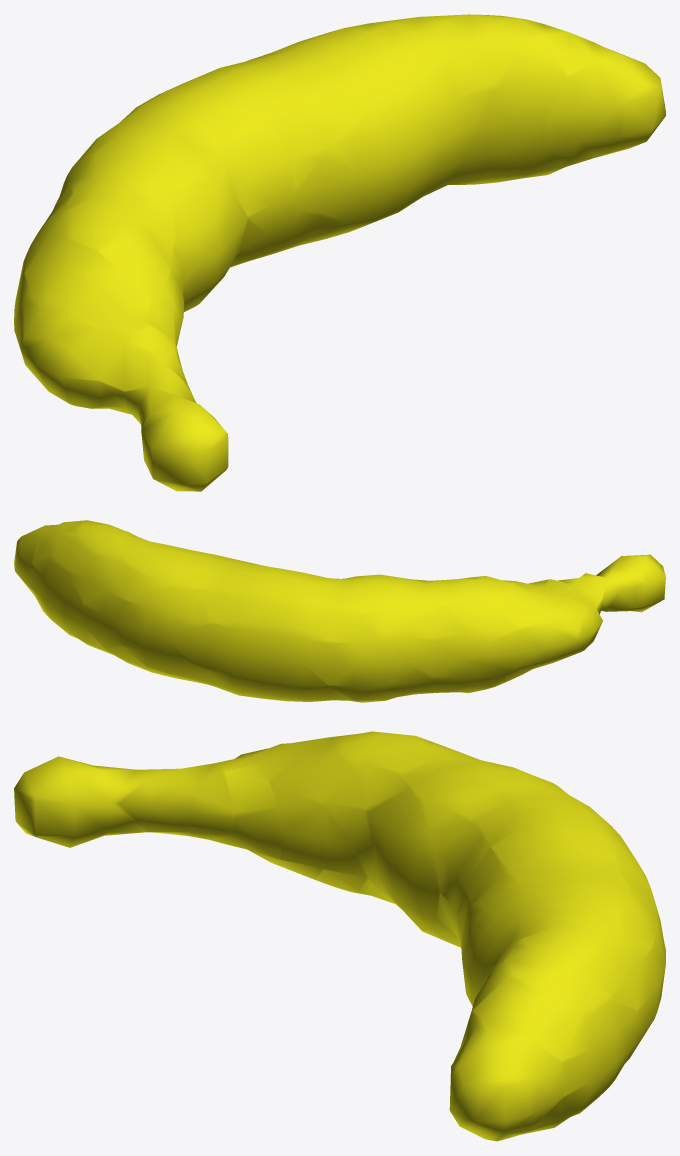
Rendered from banana_upright2.glb.
3 renders of one model, top to bottom at view 1: azimuth 30°, elevation 25°; view 2: azimuth 150°, elevation 25°; view 3: azimuth 270°, elevation 25°, orthographic. The views are drawn at different scales.
Parts seen in each view (by area): view 1: Mball.001; view 2: Mball.001; view 3: Mball.001.
Part boxes in pixels (x1,y1,x2,y2): Mball.001: (14,14,665,491); Mball.001: (14,520,665,702); Mball.001: (14,731,665,1141).
Size of the model in its own units: 3.64 by 0.8501 by 2.76.
